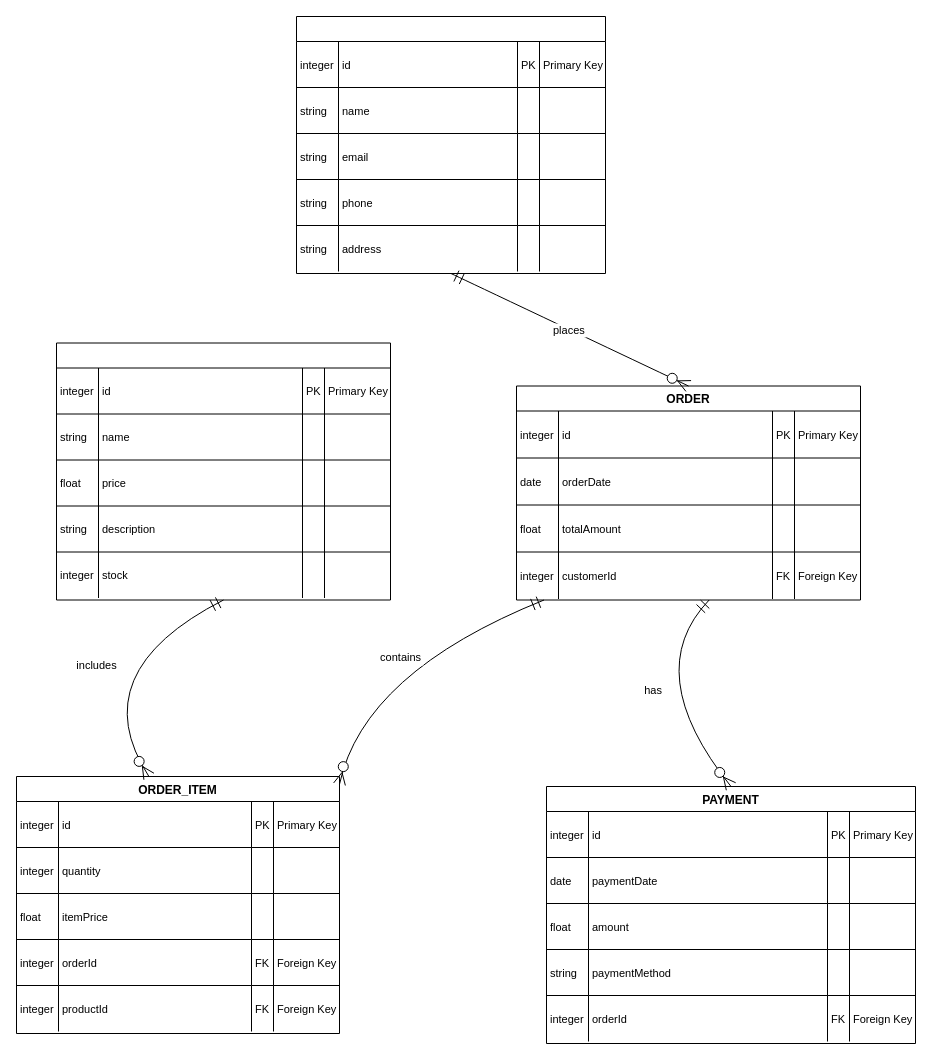
Image size: 932x1060. Some labels were removed from this diagram. The box of each missing label's shape, as (x1, y1, x2, y2) in pixels:
CUSTOMER: (296, 16, 606, 274)
PRODUCT: (56, 342, 390, 600)
